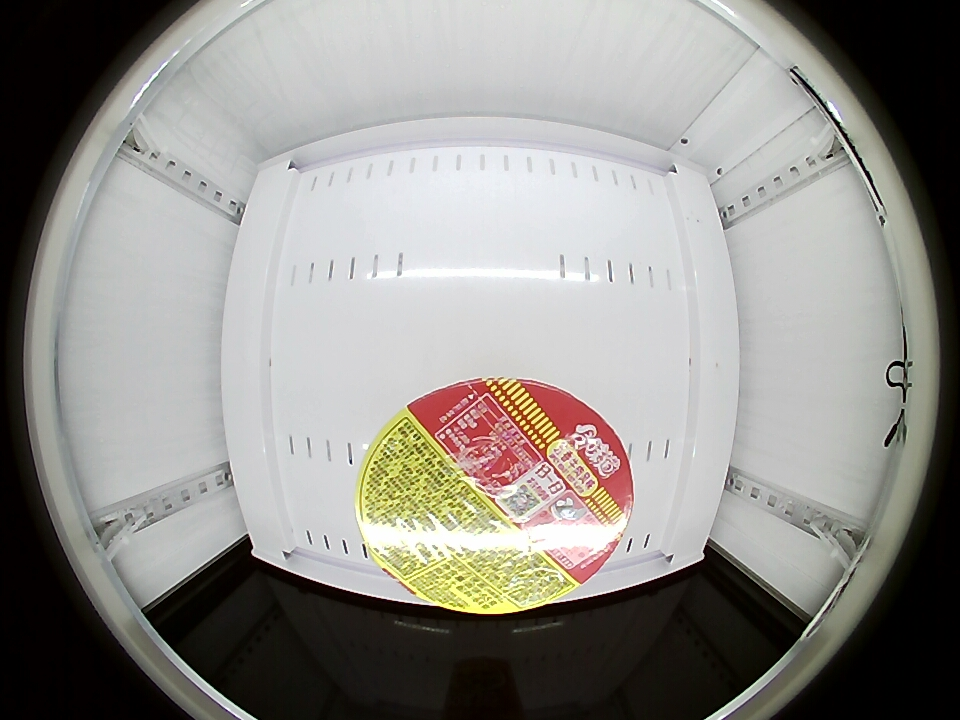heweidao3: (357, 376, 634, 614)
